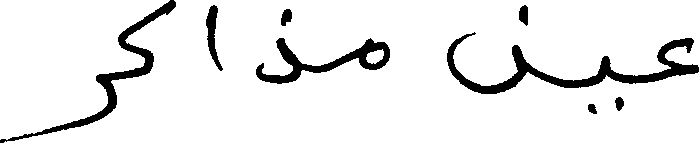ا: (204, 3, 223, 71)
ذ: (255, 6, 300, 84)
ر: (0, 34, 118, 141)
غ: (657, 35, 697, 80)
ك: (118, 0, 176, 80)
م: (355, 33, 392, 75)
ن: (447, 2, 528, 94)
ي: (587, 54, 628, 113)
